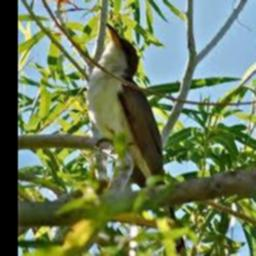Cuckoo: (87, 24, 189, 256)
